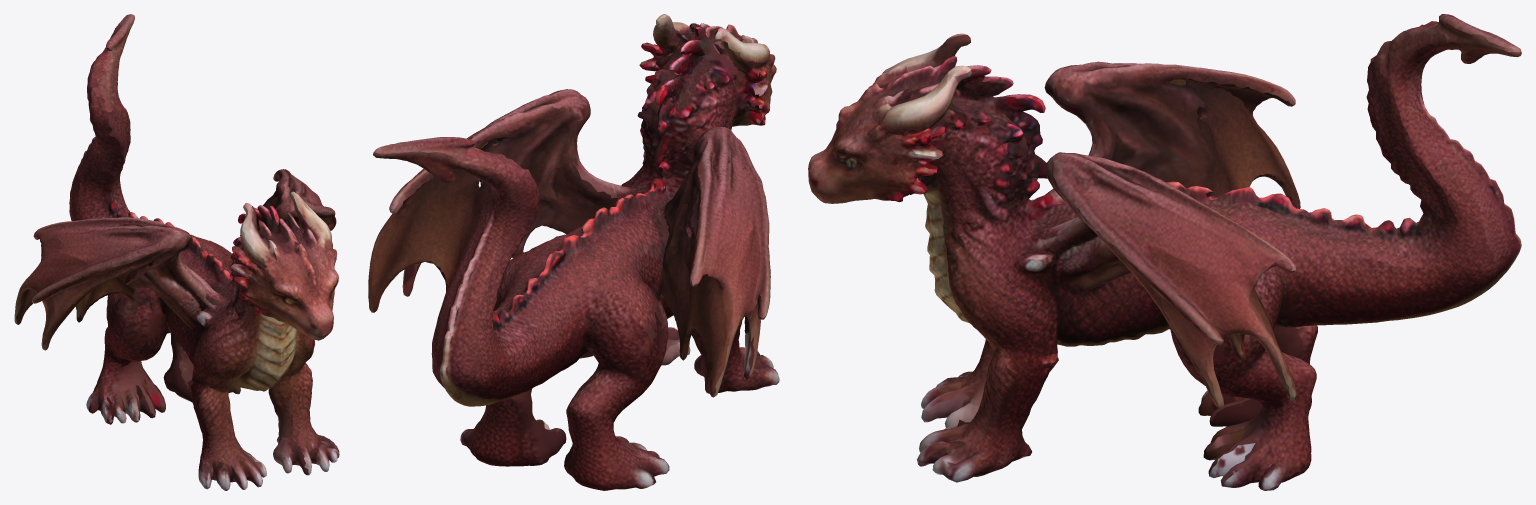
File: dragonnet.glb
3 renders of one model, left to right at view 1: azimuth 30°, elevation 25°; view 2: azimuth 150°, elevation 25°; view 3: azimuth 270°, elevation 25°, orthographic. The views are drawn at different scales.
Visible parts, largest first — view 1: tmpbinuadbd.ply; view 2: tmpbinuadbd.ply; view 3: tmpbinuadbd.ply.
Boxes of the visible parts, x1,y1,x2,y2 form: tmpbinuadbd.ply: (14, 14, 339, 490); tmpbinuadbd.ply: (368, 14, 779, 490); tmpbinuadbd.ply: (808, 14, 1521, 490).
Size of the model in its own units: 1.37 by 1.34 by 1.99.
Materials: 1 (1 with a texture image).
